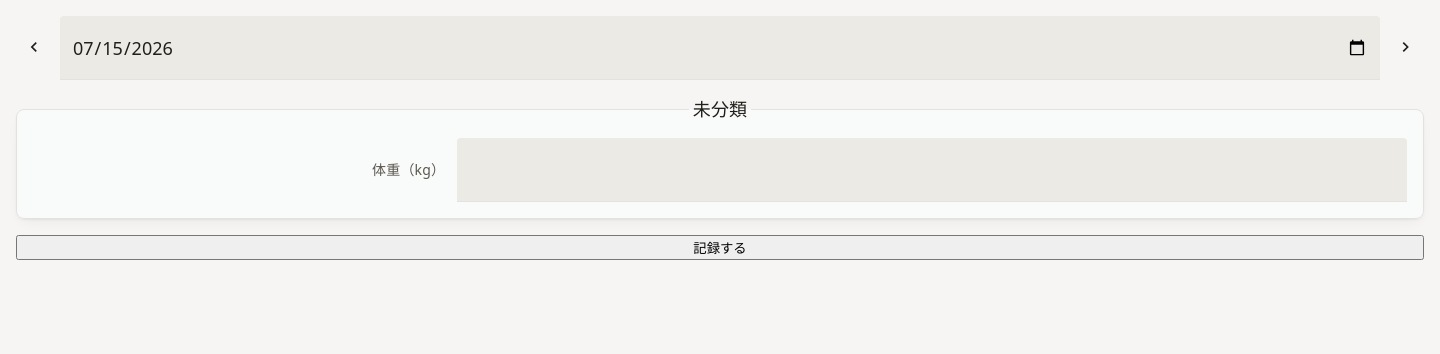
EntryFormScreen › moves to the previous/next day via the date pager buttons
The width and height of the screenshot is (1440, 354).
Check: the date field named "記録日" holds "2026-07-15", box [60,16,1380,80]
Click the button named "前の日" at (34, 48), box [16,30,52,66]
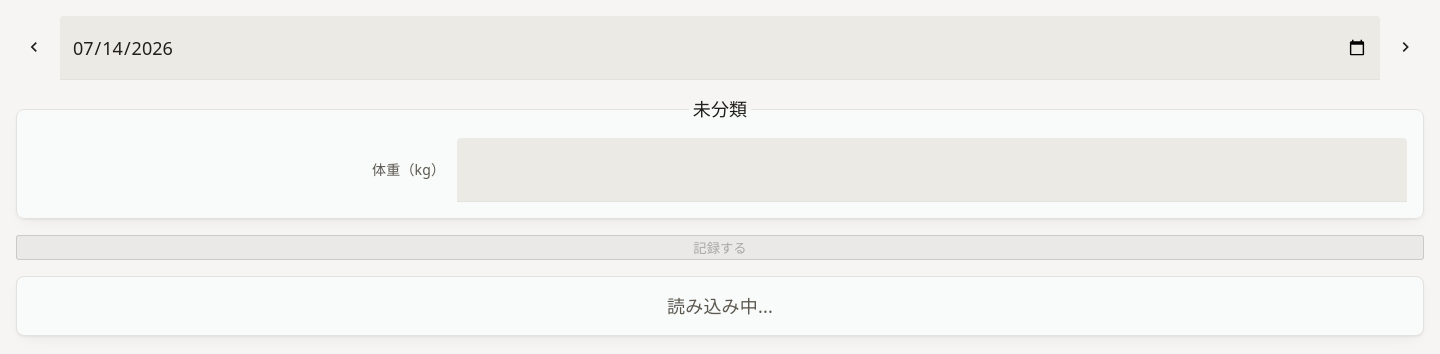
Check: the date field named "記録日" holds "2026-07-14", box [60,16,1380,80]
Click the button named "次の日" at (1406, 48), box [1388,30,1424,66]
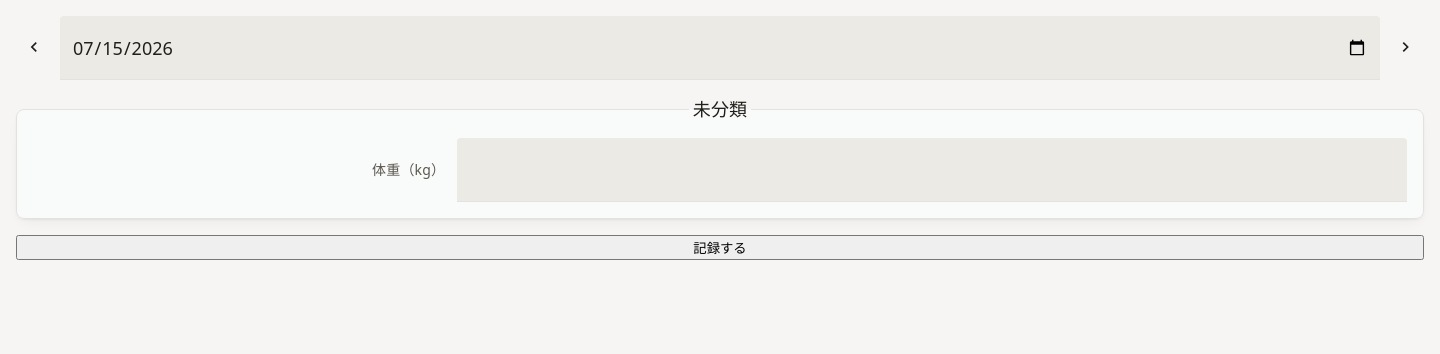
Check: the date field named "記録日" holds "2026-07-15", box [60,16,1380,80]
Click the button named "次の日" at (1406, 48), box [1388,30,1424,66]
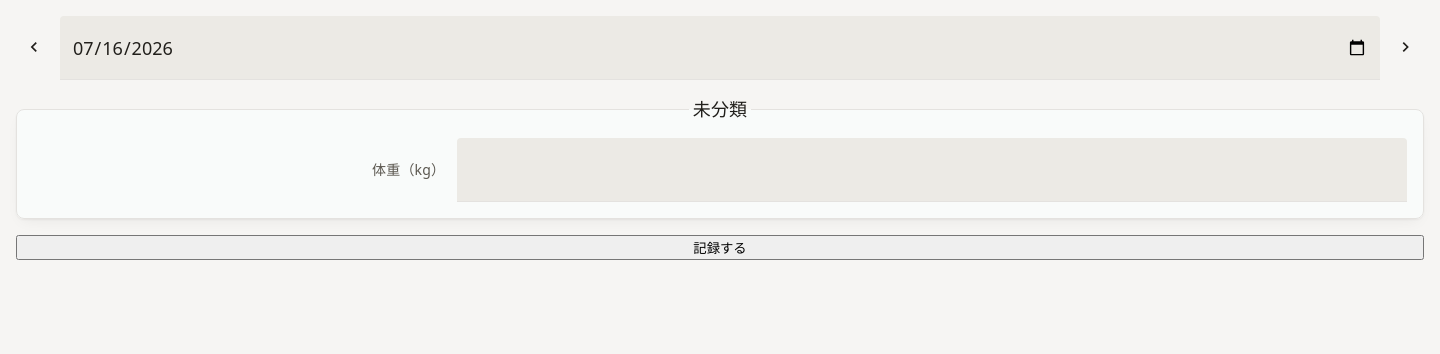
Check: the date field named "記録日" holds "2026-07-16", box [60,16,1380,80]
